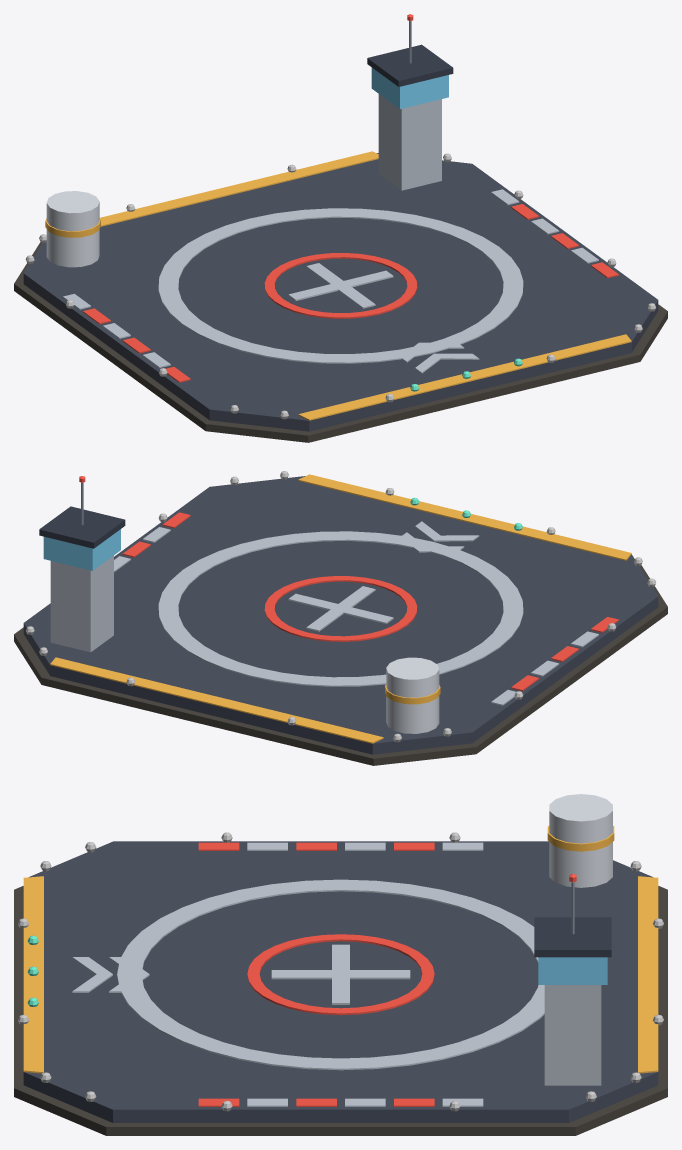
The model's file is landeplatz.obj.
3 views of the same model, one above another, from view 1: azimuth 30°, elevation 25°; view 2: azimuth 150°, elevation 25°; view 3: azimuth 270°, elevation 25° (orthographic). The views are drawn at different scales.
Visible parts, largest first — view 1: landeplatz_Koerper, landeplatz_Lichter; view 2: landeplatz_Koerper, landeplatz_Lichter; view 3: landeplatz_Koerper, landeplatz_Lichter.
Boxes of the visible parts, bbox=[...] form: landeplatz_Koerper: bbox=[14, 14, 667, 442]; landeplatz_Lichter: bbox=[25, 153, 655, 419]; landeplatz_Koerper: bbox=[14, 474, 667, 765]; landeplatz_Lichter: bbox=[26, 471, 656, 742]; landeplatz_Koerper: bbox=[14, 794, 667, 1135]; landeplatz_Lichter: bbox=[18, 832, 663, 1111].
Size of the model in its own units: 8.03 by 3.01 by 8.03.
